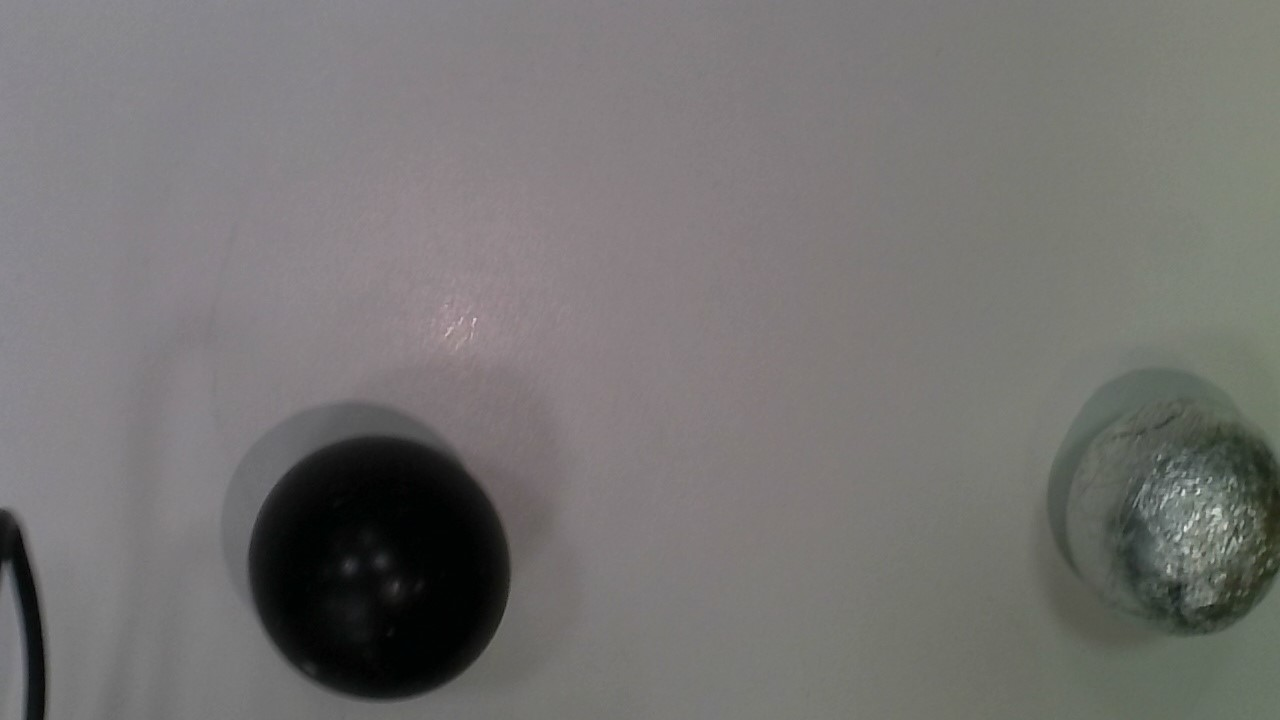black_ball: (222, 415, 522, 705)
silver_ball: (1038, 386, 1280, 645)
